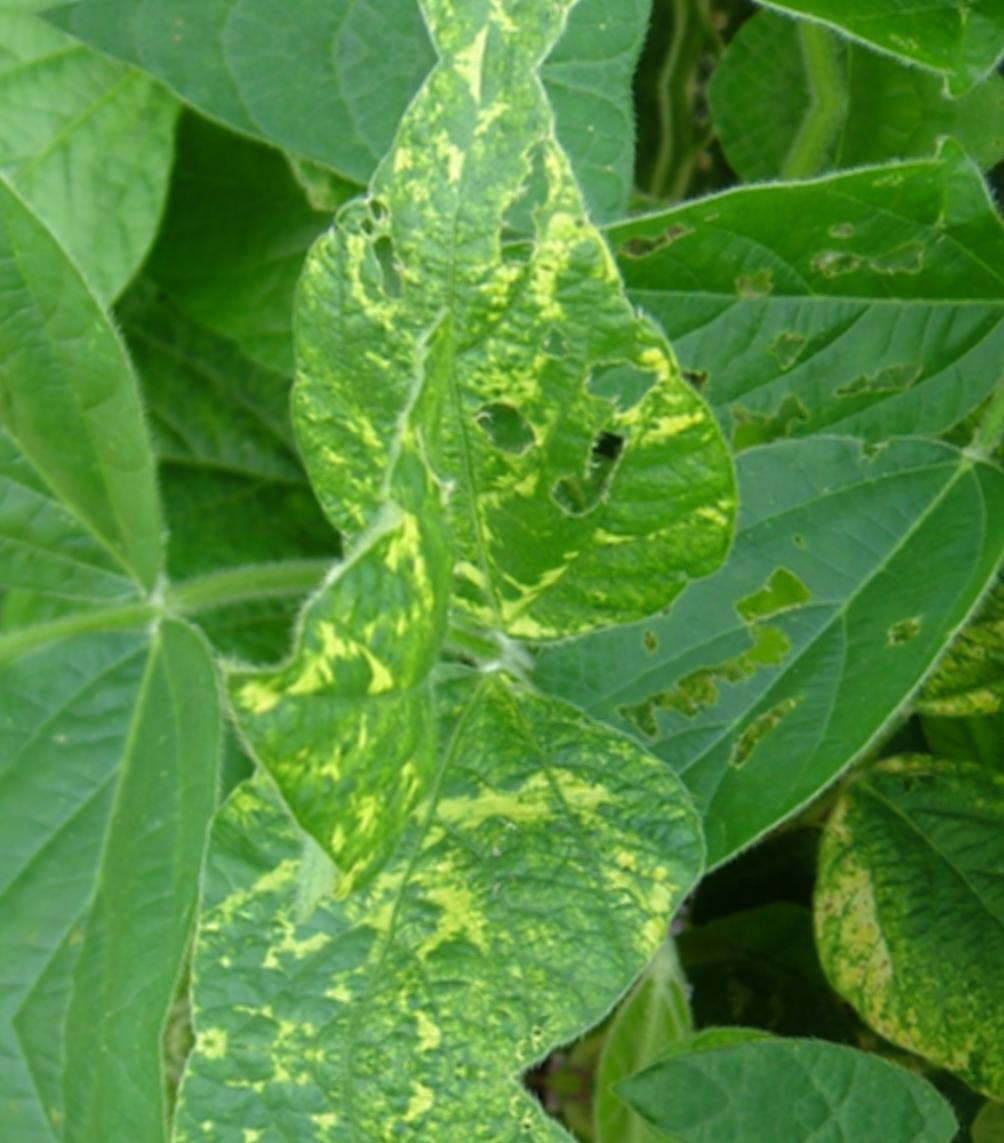Tomato leaf: (0, 590, 242, 1042)
Tomato leaf mosaic virus: (234, 43, 791, 662), (205, 651, 706, 1095)
